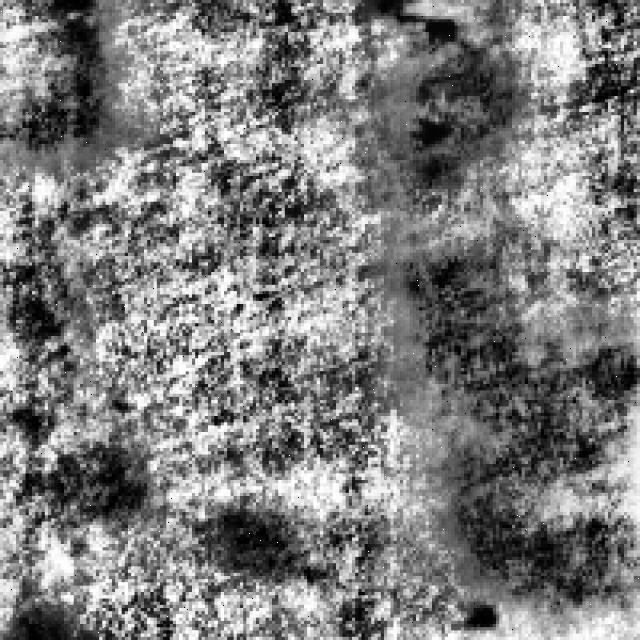Scratches: (391, 237, 634, 605), (374, 0, 506, 189), (0, 0, 115, 160)
